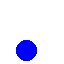circle: (16, 40, 36, 60)
